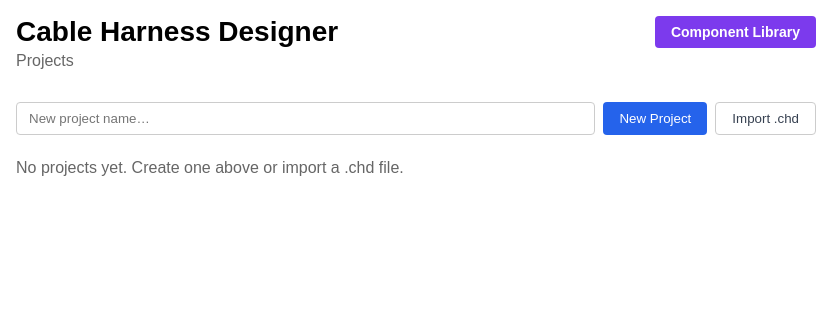
Test: ProjectListScreen › duplicate creates a copy suffixed with (copy)
The image size is (833, 328).
Expected: the text "No projects yet. Create one above or import a .chd file." is shown, [16,159,404,176]
Type "Original" into the field with placeholder "New project name…". click: (306, 118)
box: [16,102,596,135]
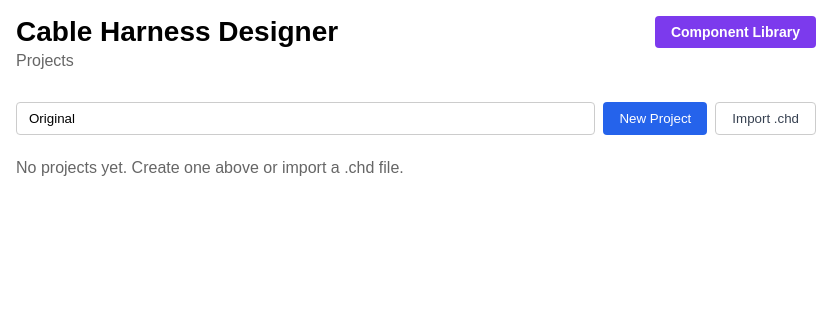
Click the button "New Project". click: click(655, 118)
box: [604,102,707,135]
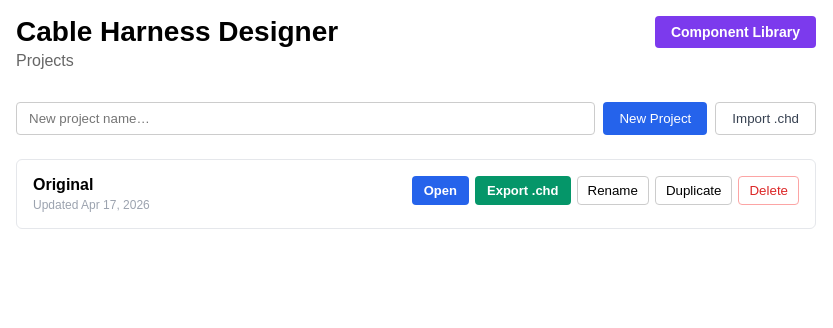
Now the text "Original" is shown, box [33,176,94,193]
Click the button "Duplicate". click: click(694, 190)
box: [655,176,732,205]
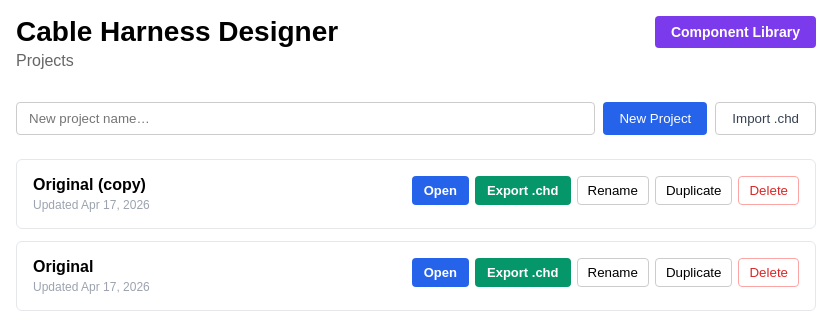
Now the text "Original (copy)" is shown, box [33,176,146,193]
